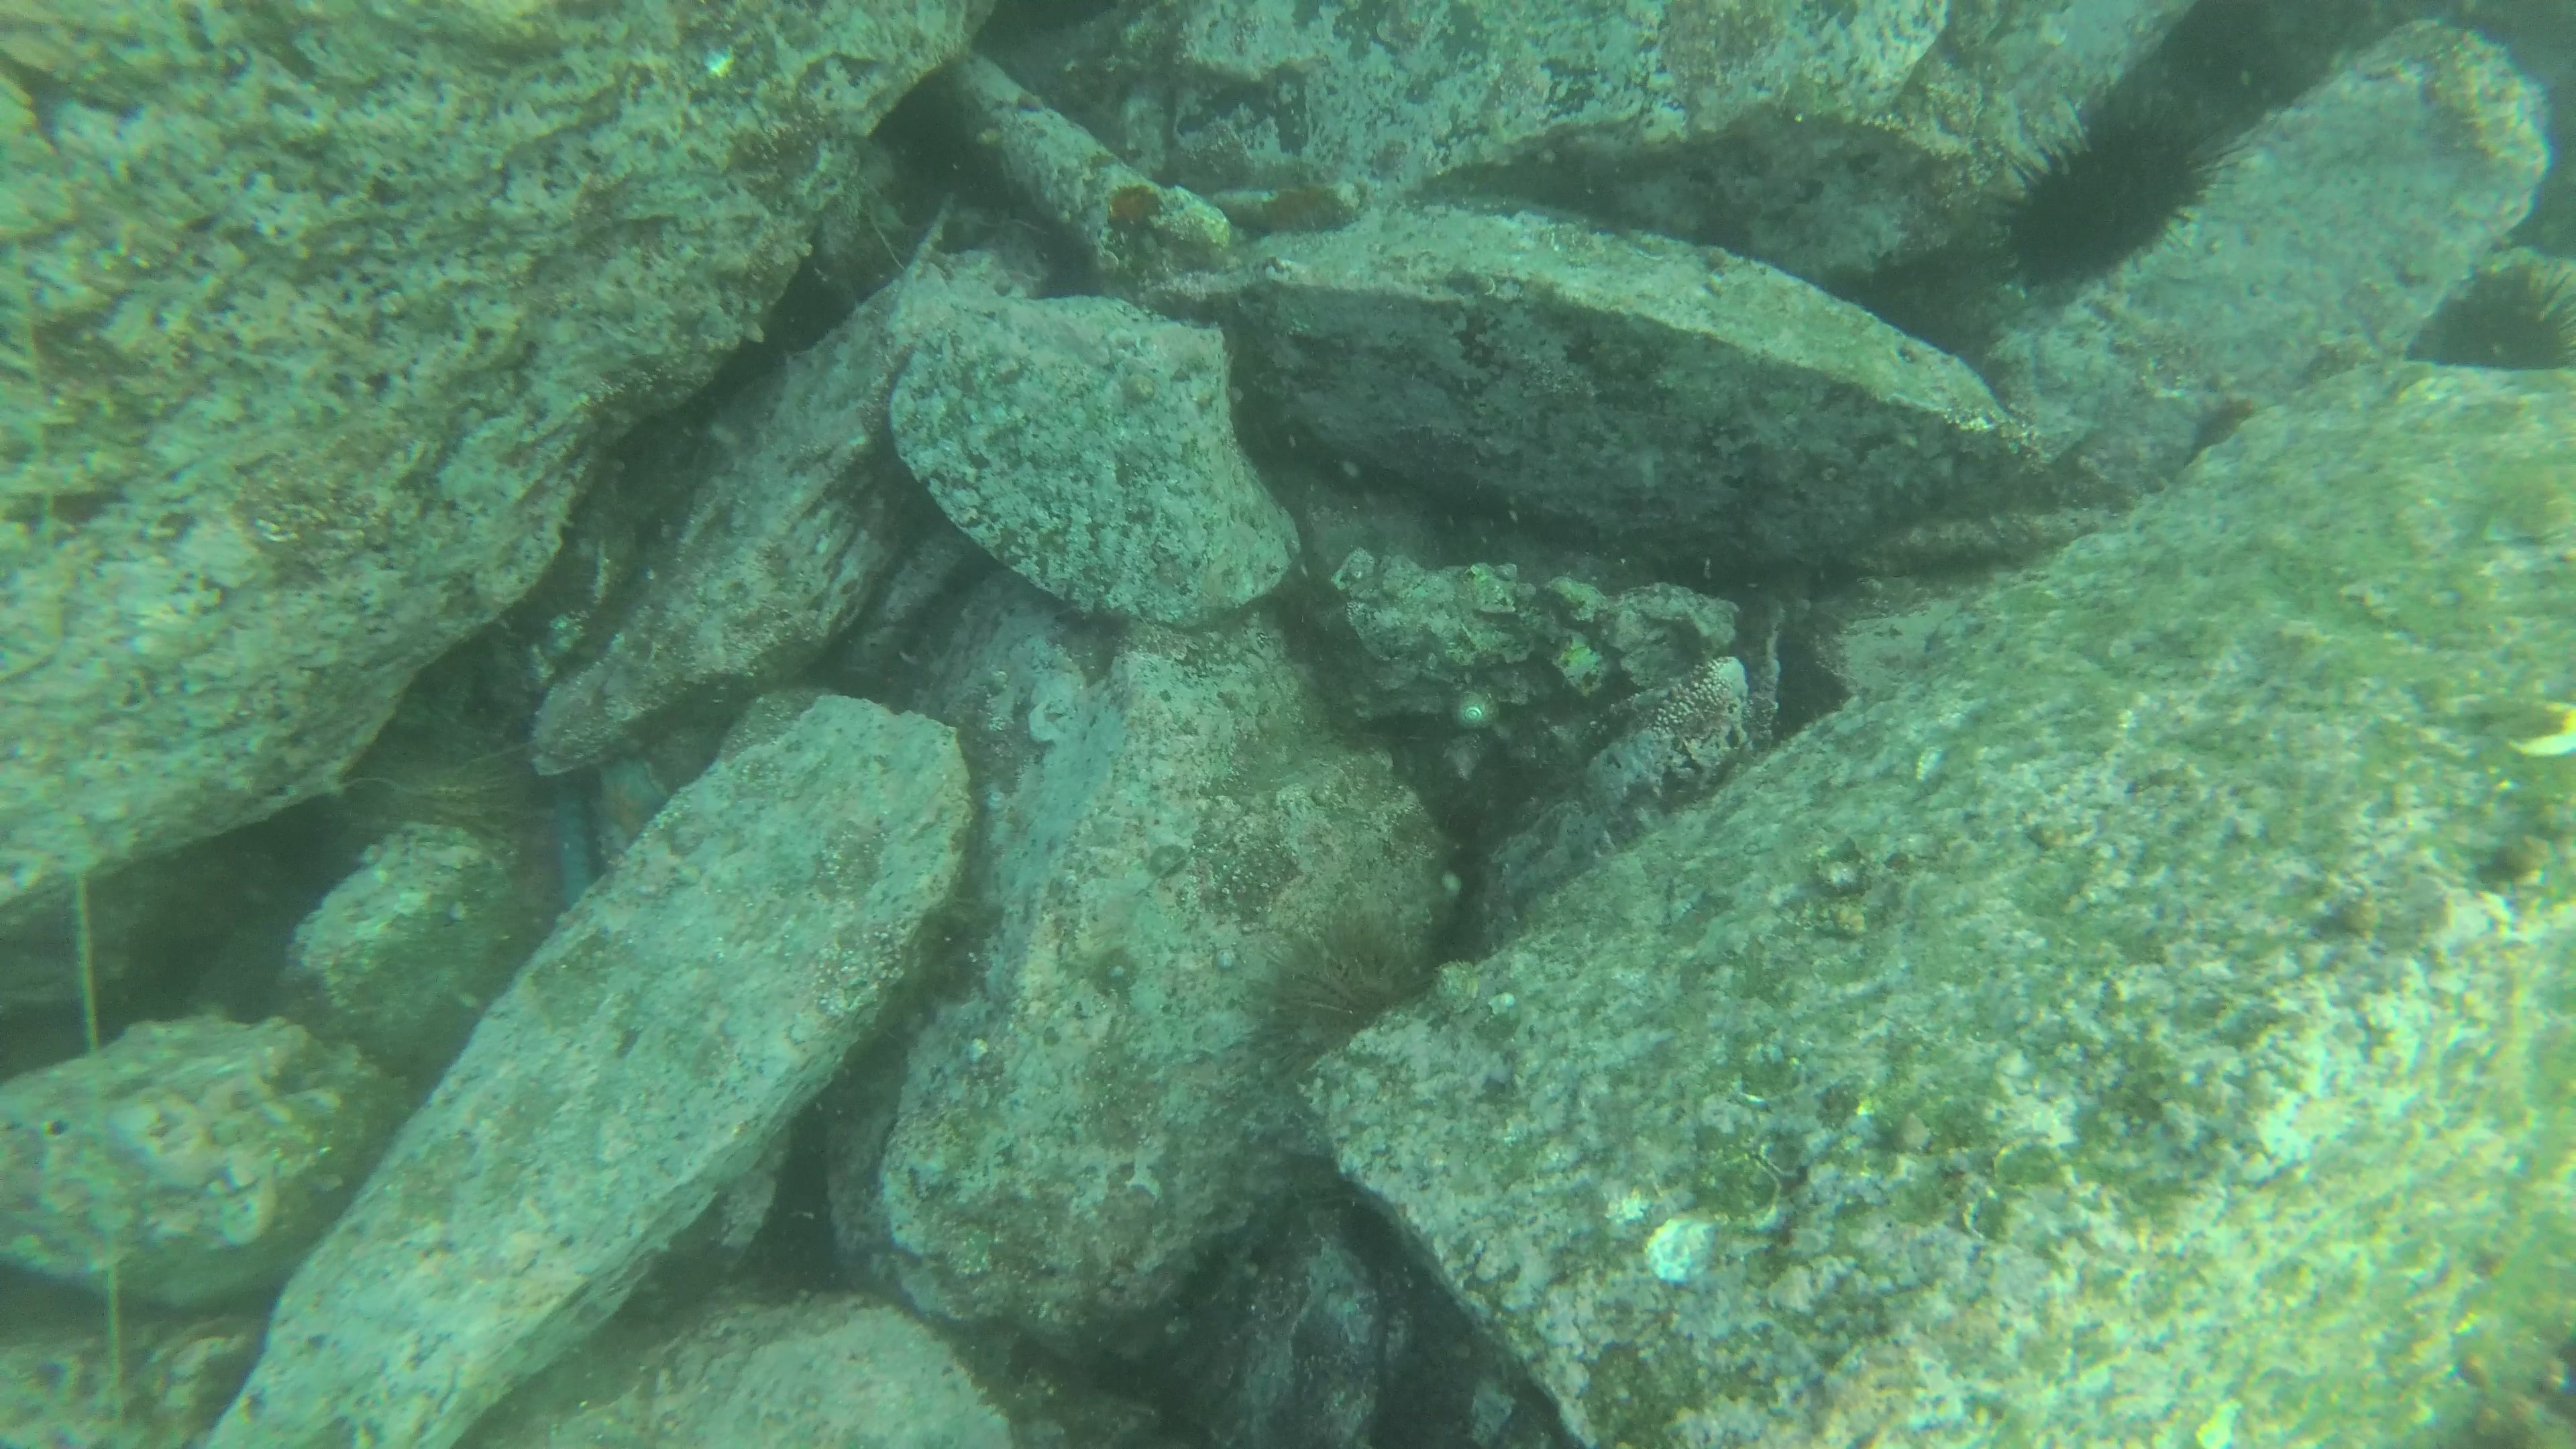echinus: (1999, 96, 2235, 283), (336, 706, 556, 844), (1254, 938, 1431, 1099), (2427, 272, 2576, 391)
